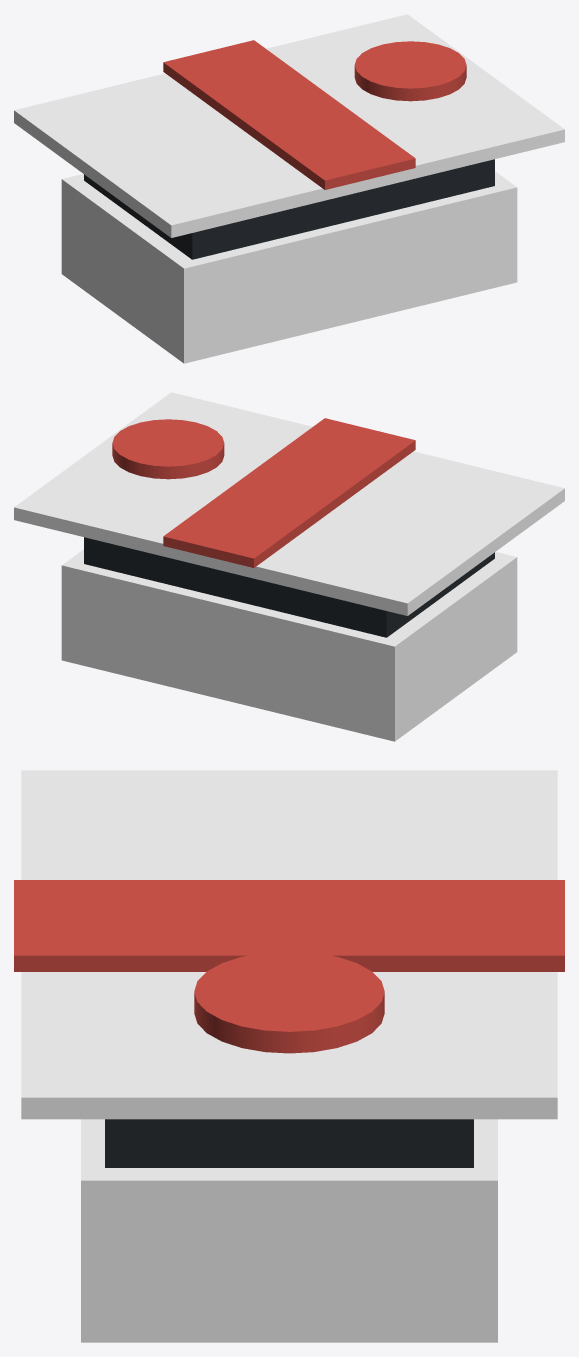
The model's file is SM_SoudahCableStation.fbx.
The picture shows the model from 3 angles, top to bottom: view 1: azimuth 30°, elevation 25°; view 2: azimuth 150°, elevation 25°; view 3: azimuth 270°, elevation 25°; orthographic projection. The views are drawn at different scales.
Visible parts, largest first — view 1: SM_SoudahCableStation; view 2: SM_SoudahCableStation; view 3: SM_SoudahCableStation.
Part boxes in pixels (x1,y1,x2,y2): SM_SoudahCableStation: (14, 14, 564, 363); SM_SoudahCableStation: (14, 392, 564, 741); SM_SoudahCableStation: (14, 770, 564, 1342).
Size of the model in its own units: 2600 by 1160 by 1850.
